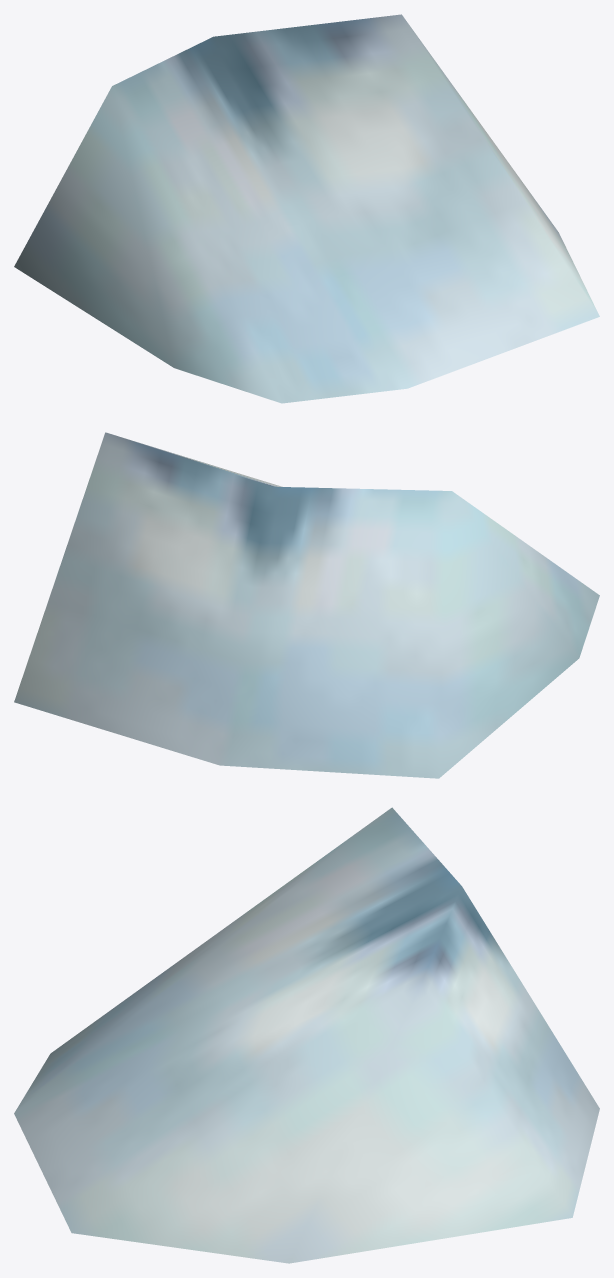
The model's file is h5_xuesuish_h.FBX.
3 views of the same model, one above another, from view 1: azimuth 30°, elevation 25°; view 2: azimuth 150°, elevation 25°; view 3: azimuth 270°, elevation 25° (orthographic). The views are drawn at different scales.
Parts seen in each view (by area): view 1: h5_xuesuish_h; view 2: h5_xuesuish_h; view 3: h5_xuesuish_h.
Boxes of the visible parts, bbox=[...] form: h5_xuesuish_h: bbox=[14, 14, 599, 403]; h5_xuesuish_h: bbox=[14, 432, 599, 778]; h5_xuesuish_h: bbox=[14, 807, 599, 1263].
Size of the model in its own units: 0.5847 by 0.2648 by 0.5948.
